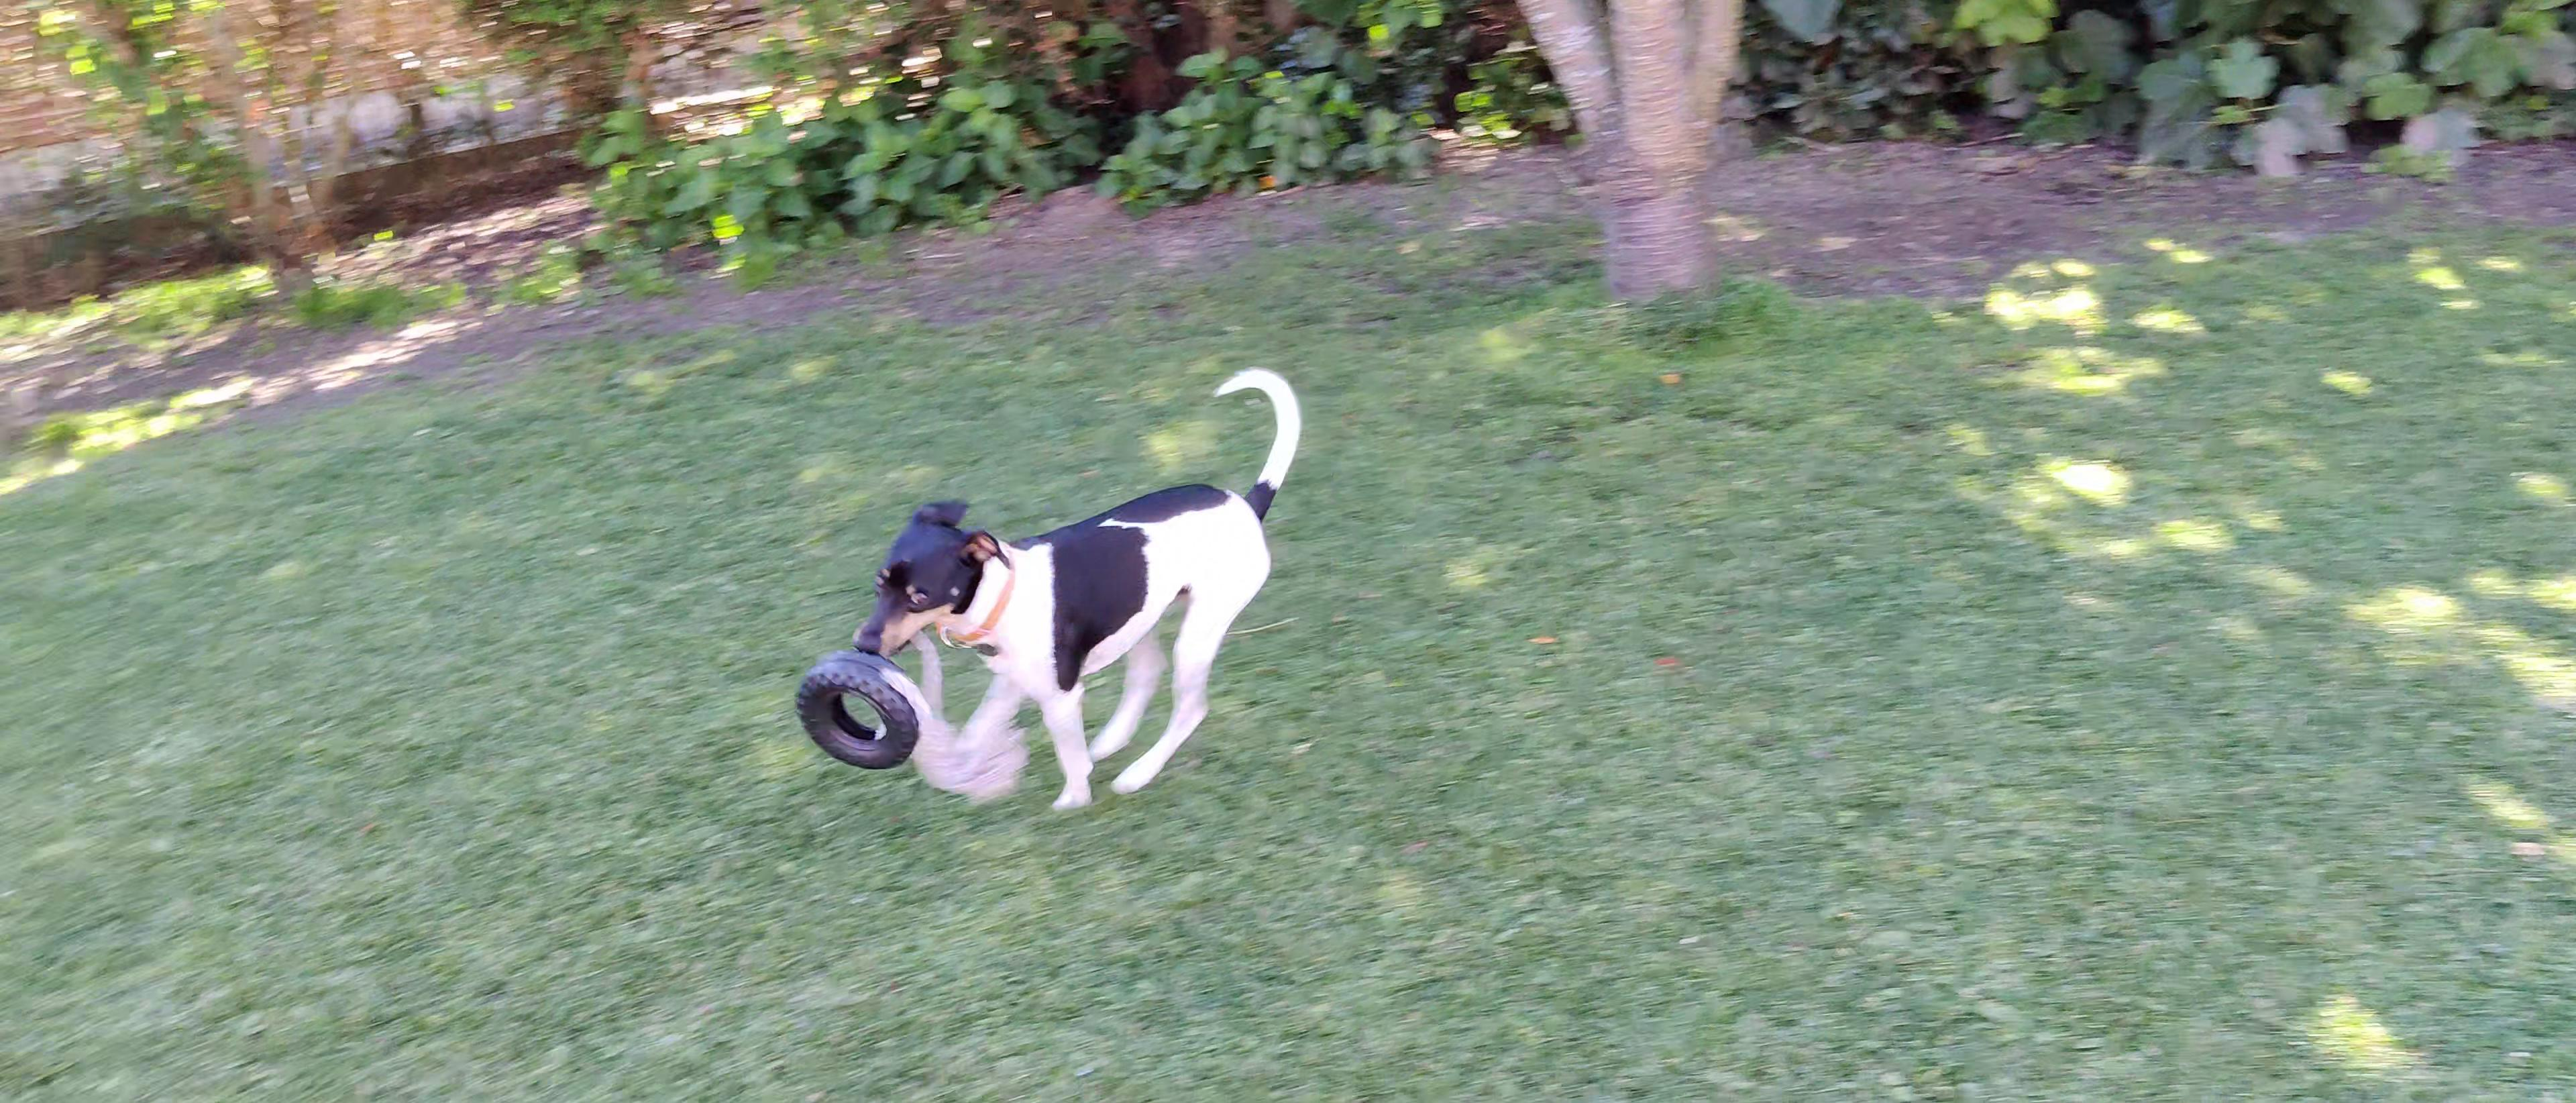Dog: (844, 358, 1308, 822)
